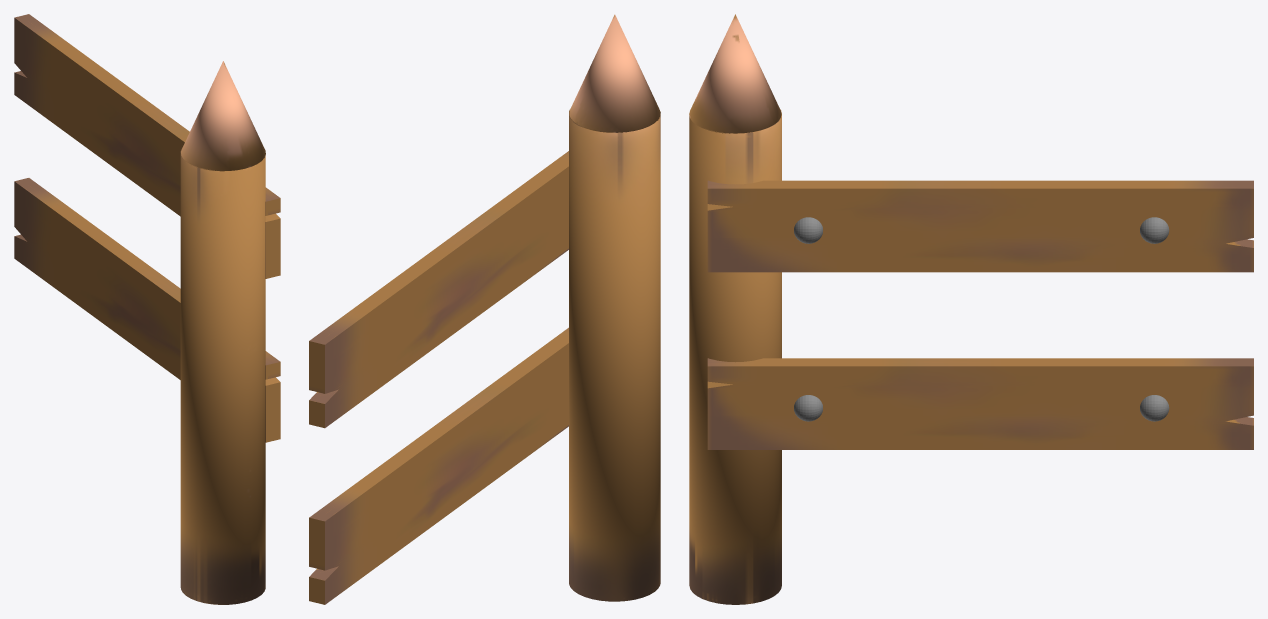
File: fence.fbx
The picture shows the model from 3 angles, left to right: view 1: azimuth 30°, elevation 25°; view 2: azimuth 150°, elevation 25°; view 3: azimuth 270°, elevation 25°; orthographic projection. The views are drawn at different scales.
Visible parts, largest first — view 1: fence_pole, planks, planks.001; view 2: fence_pole, planks, planks.001; view 3: planks, planks.001, fence_pole.
Part boxes in pixels (<box>): fence_pole: <box>180,61,265,604</box>; planks: <box>14,14,280,278</box>; planks.001: <box>14,178,280,442</box>; fence_pole: <box>569,14,660,601</box>; planks: <box>309,151,568,428</box>; planks.001: <box>309,327,568,604</box>; planks: <box>707,180,1253,272</box>; planks.001: <box>707,358,1253,449</box>; fence_pole: <box>689,14,781,604</box>.
Bounding box in the file's own units: 244 × 1361 × 1219.
